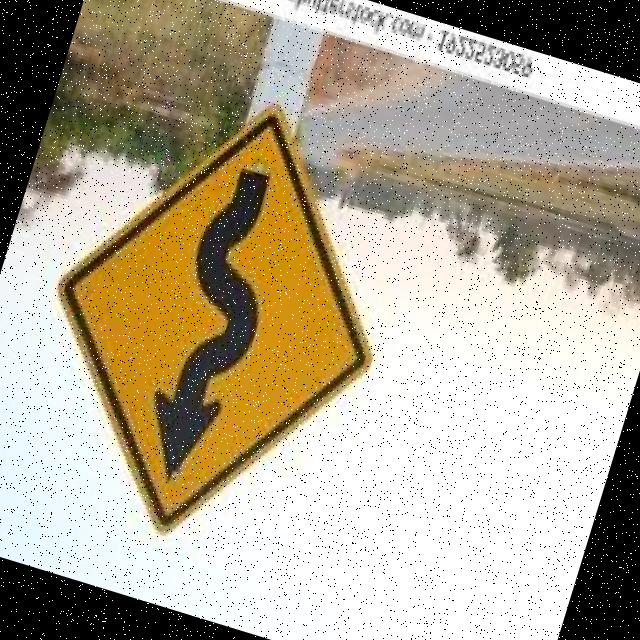left_sharp_curve: (0, 59, 437, 588)
